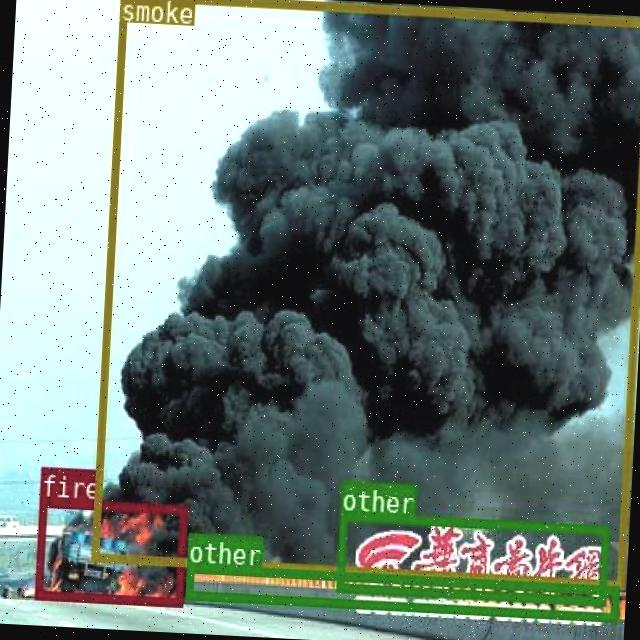fire: (33, 498, 186, 605)
smoke: (89, 0, 640, 587)
